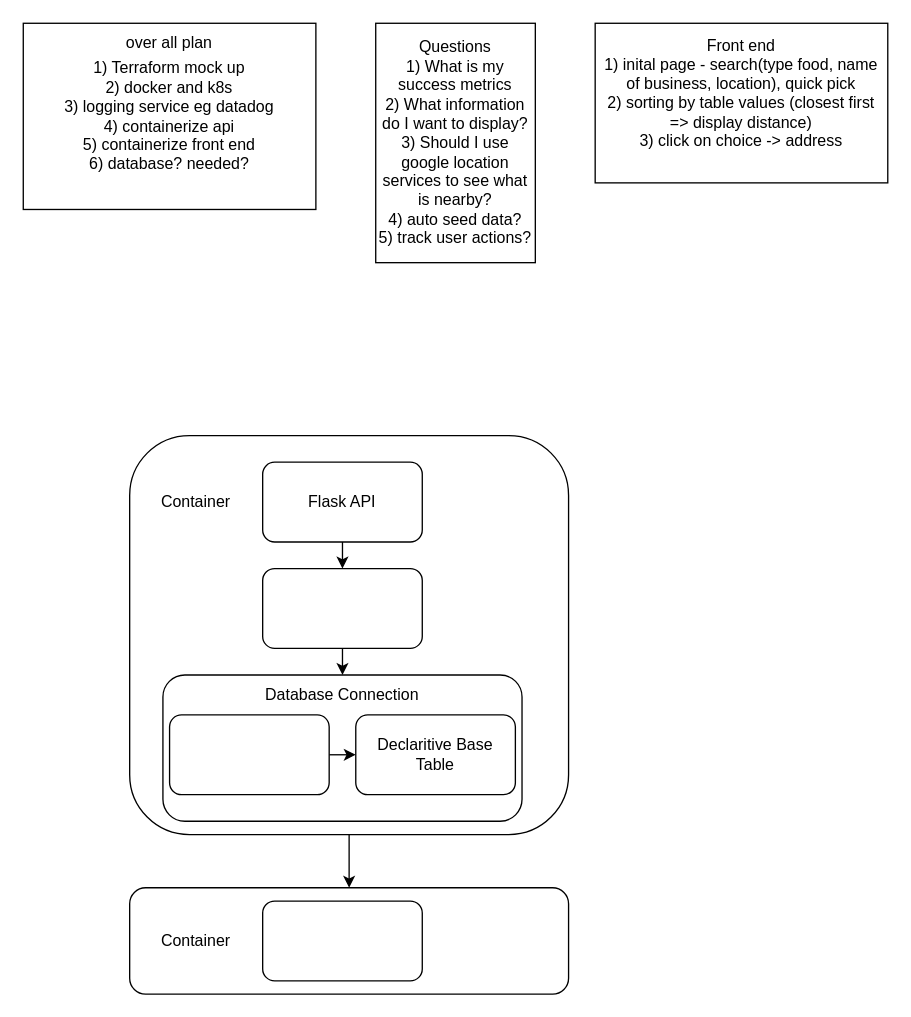
Image size: 911x1017. Some labels were removed from this diagram. The centre of each missing label's shape, as x and y in pixels:
"Engine setup" belongs at (x=248, y=754).
"food_facility Service Layer" belongs at (x=341, y=607).
"PSQL Database" belongs at (x=341, y=940).
